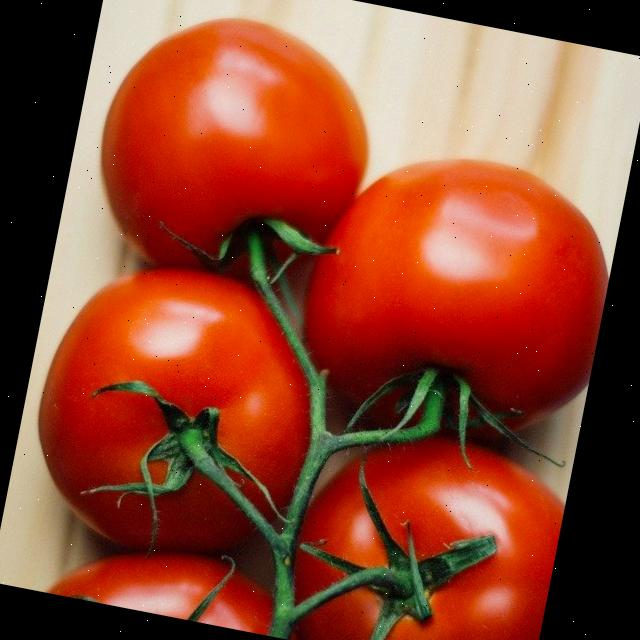tomato: (18, 234, 352, 583), (302, 134, 620, 473), (78, 0, 386, 310), (292, 389, 576, 640), (0, 503, 307, 640)
